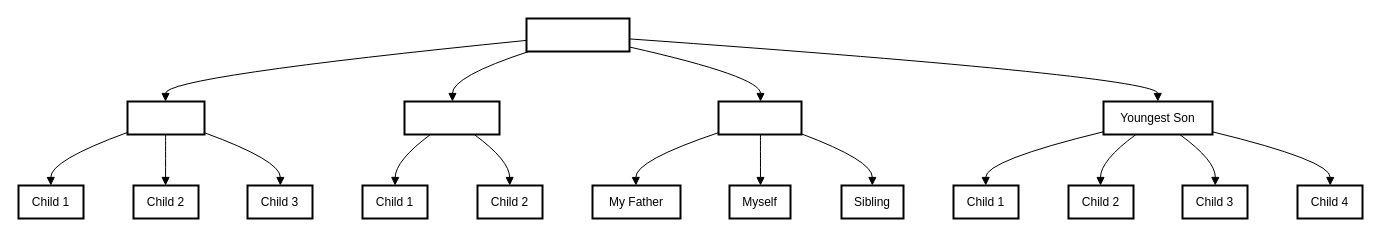
The diagram is 1380 pixels wide and 236 high, and some of its shapes have lost their labels. The shapes that lost their labels are listed below. From the top down, each one's centre as x and y in pixels, then its label:
the point at 577,34: Grandfather
the point at 165,117: First Son
the point at 451,117: Second Son
the point at 759,117: Third Son
